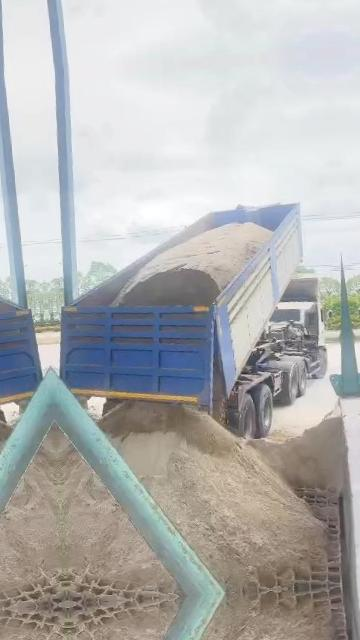sand: (99, 402, 326, 592), (56, 431, 175, 591), (114, 222, 272, 306), (248, 410, 345, 492), (213, 362, 223, 421), (270, 429, 295, 442)
